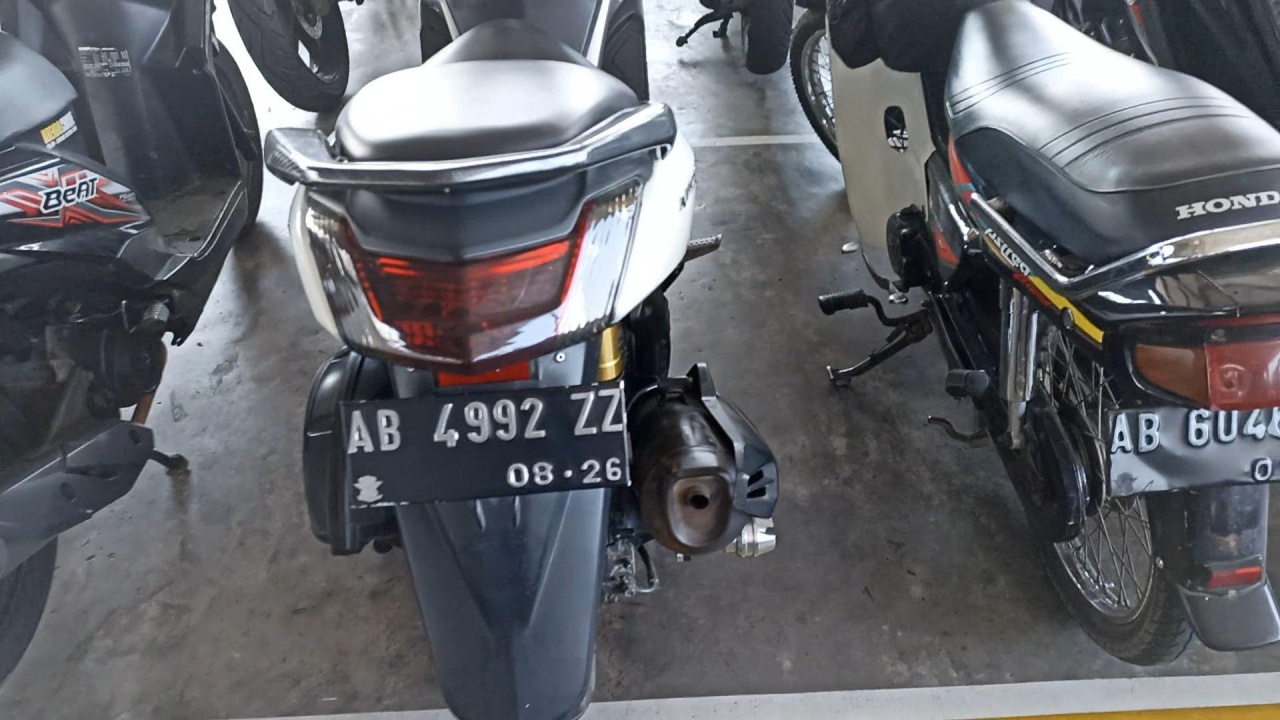plate: (343, 381, 630, 510)
